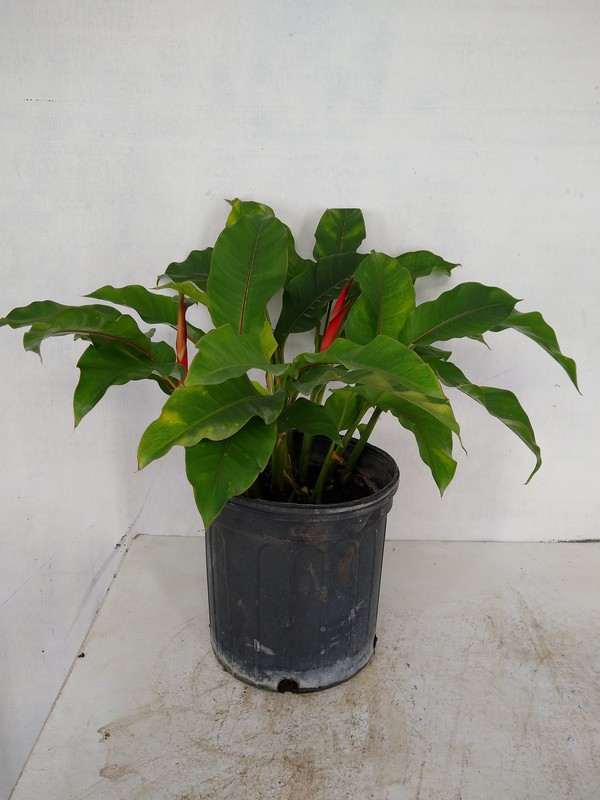plant: (2, 196, 586, 536)
pot: (192, 437, 401, 695)
